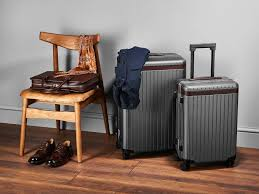suitcase: (175, 44, 239, 172), (115, 49, 185, 160)
